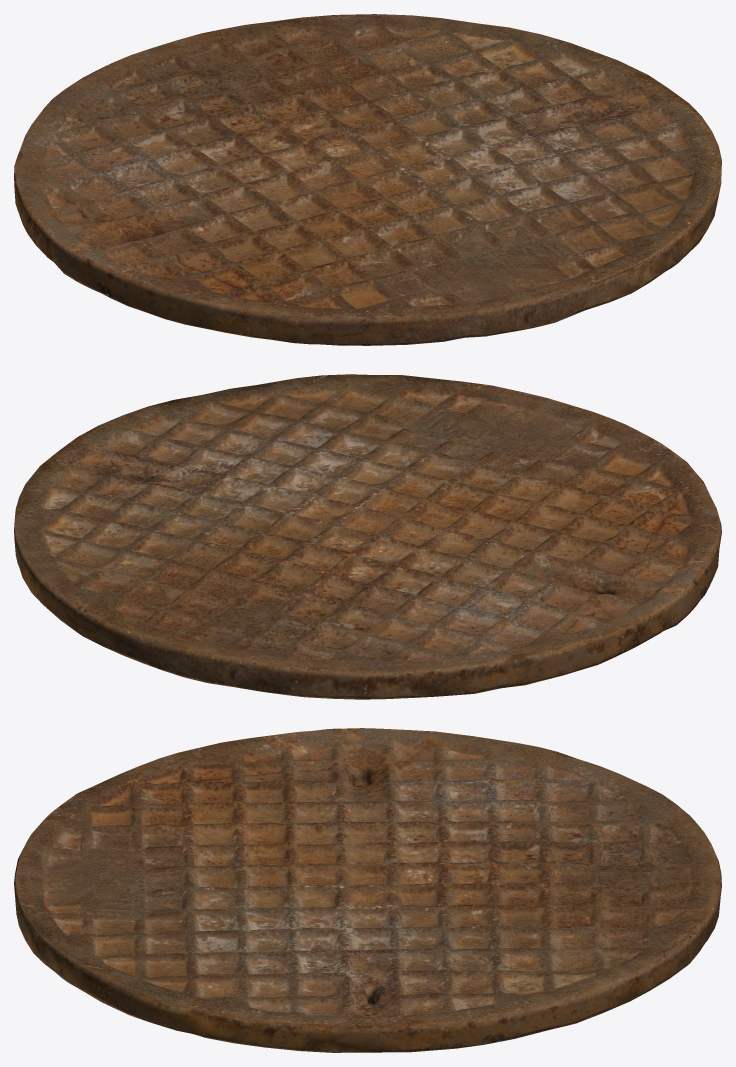
The picture shows the model from 3 angles, top to bottom: view 1: azimuth 30°, elevation 25°; view 2: azimuth 150°, elevation 25°; view 3: azimuth 270°, elevation 25°; orthographic projection.
Parts seen in each view (by area): view 1: wdlmdgebw_LOD0_TIER1_000; view 2: wdlmdgebw_LOD0_TIER1_000; view 3: wdlmdgebw_LOD0_TIER1_000.
Part boxes in pixels (bbox=[...]): wdlmdgebw_LOD0_TIER1_000: bbox=[14, 14, 721, 345]; wdlmdgebw_LOD0_TIER1_000: bbox=[14, 374, 721, 699]; wdlmdgebw_LOD0_TIER1_000: bbox=[14, 728, 721, 1052].
Bounding box in the file's own units: 0.6414 × 0.0461 × 0.6383.
1 material, 1 textured.
